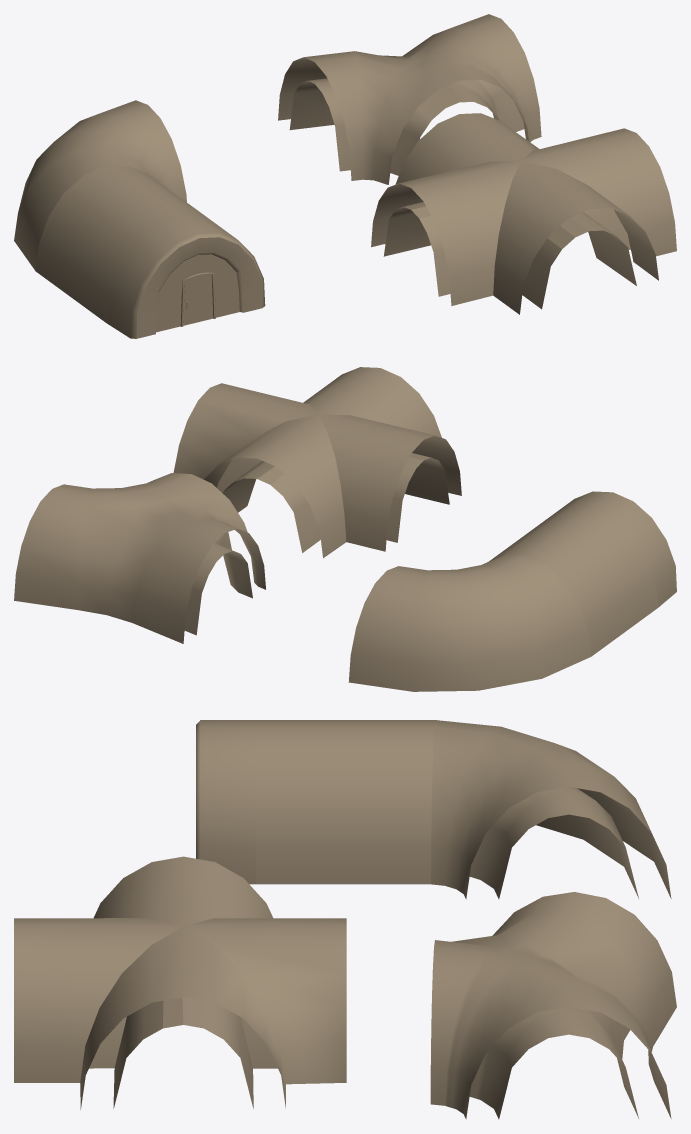
The model's file is Tunnel kit.fbx.
3 renders of one model, top to bottom at view 1: azimuth 30°, elevation 25°; view 2: azimuth 150°, elevation 25°; view 3: azimuth 270°, elevation 25°, orthographic. The views are drawn at different scales.
Visible parts, largest first — view 1: polySurface91, polySurface93, polySurface79, polySurface96, polySurface98, polySurface92, polySurface94, polySurface100, polySurface78; view 2: polySurface91, polySurface96, polySurface93, polySurface98, polySurface92, polySurface100, polySurface79, polySurface94; view 3: polySurface91, polySurface93, polySurface98, polySurface96, polySurface100, polySurface79, polySurface97, polySurface92, polySurface94.
Part boxes in pixels (x1,y1,x2,y2): polySurface91: (371,113,676,314); polySurface93: (278,14,541,184); polySurface79: (106,217,265,338); polySurface96: (14,100,186,270); polySurface98: (35,165,192,305); polySurface92: (383,202,636,309); polySurface94: (289,78,524,175); polySurface100: (83,199,216,322); polySurface78: (183,274,213,325); polySurface91: (173,367,461,558); polySurface96: (348,554,591,691); polySurface93: (14,473,265,643); polySurface98: (489,523,636,656); polySurface92: (217,453,449,552); polySurface100: (532,506,658,623); polySurface79: (554,491,676,606); polySurface94: (184,532,252,635); polySurface91: (14,856,346,1109); polySurface93: (430,892,676,1119); polySurface98: (316,720,437,884); polySurface96: (431,720,671,899); polySurface100: (256,720,316,884); polySurface79: (196,720,256,884); polySurface97: (469,787,638,899); polySurface92: (89,997,277,1108); polySurface94: (469,1007,638,1119).
Bounding box in the file's own units: 25.22 × 4.13 × 21.93.
